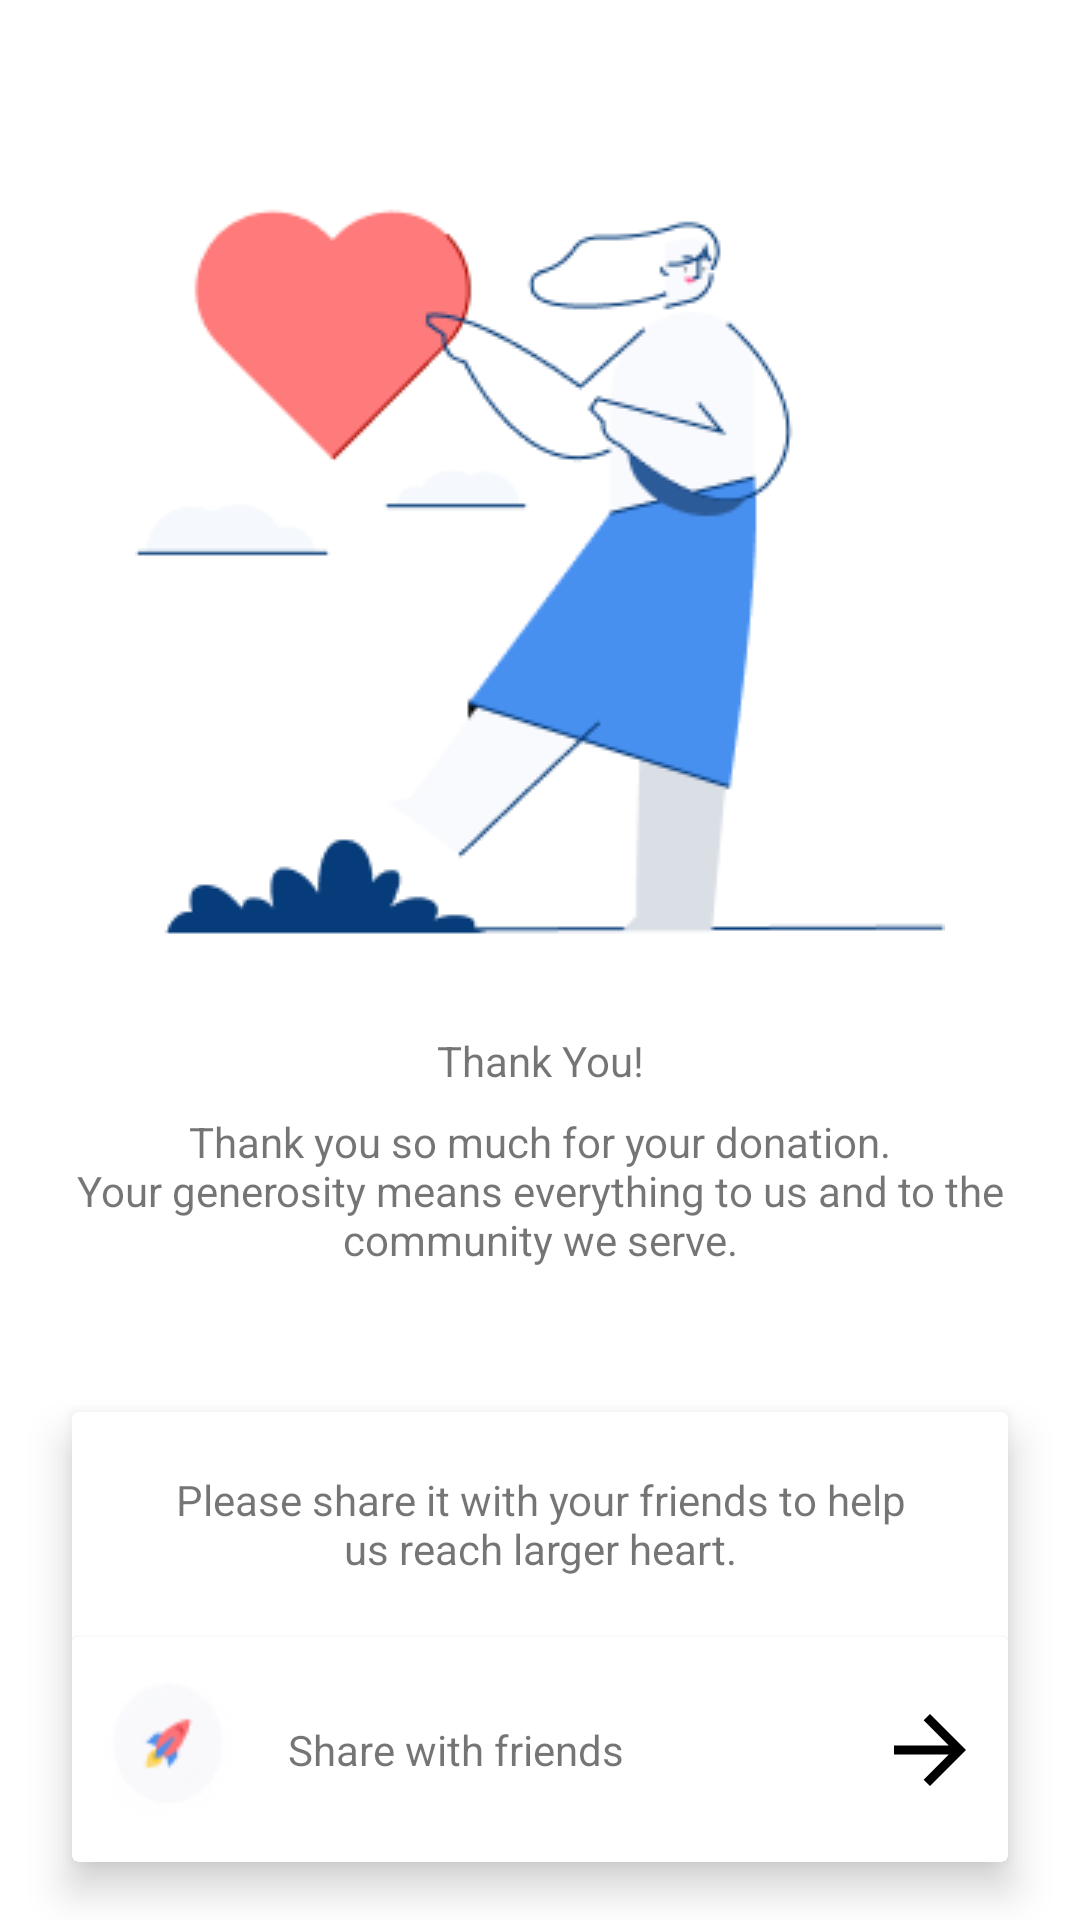

Locate icon controls on the screen. Image size 1080px x 1920px, boxes as box(x1, y1, x2, y2).
arrow forward: box(894, 1714, 966, 1786)
